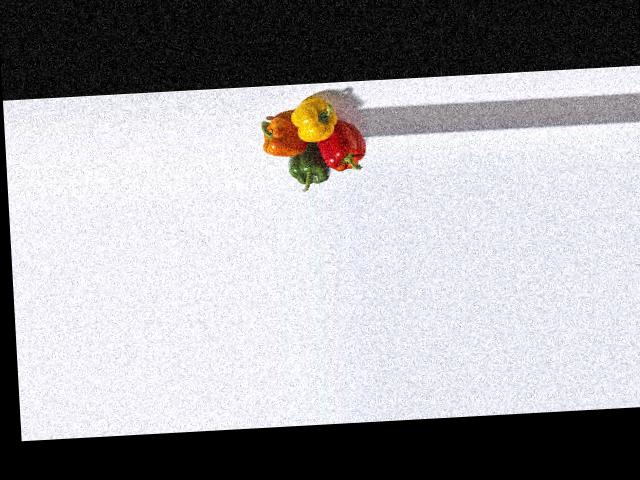bell_pepper: (317, 119, 369, 177)
